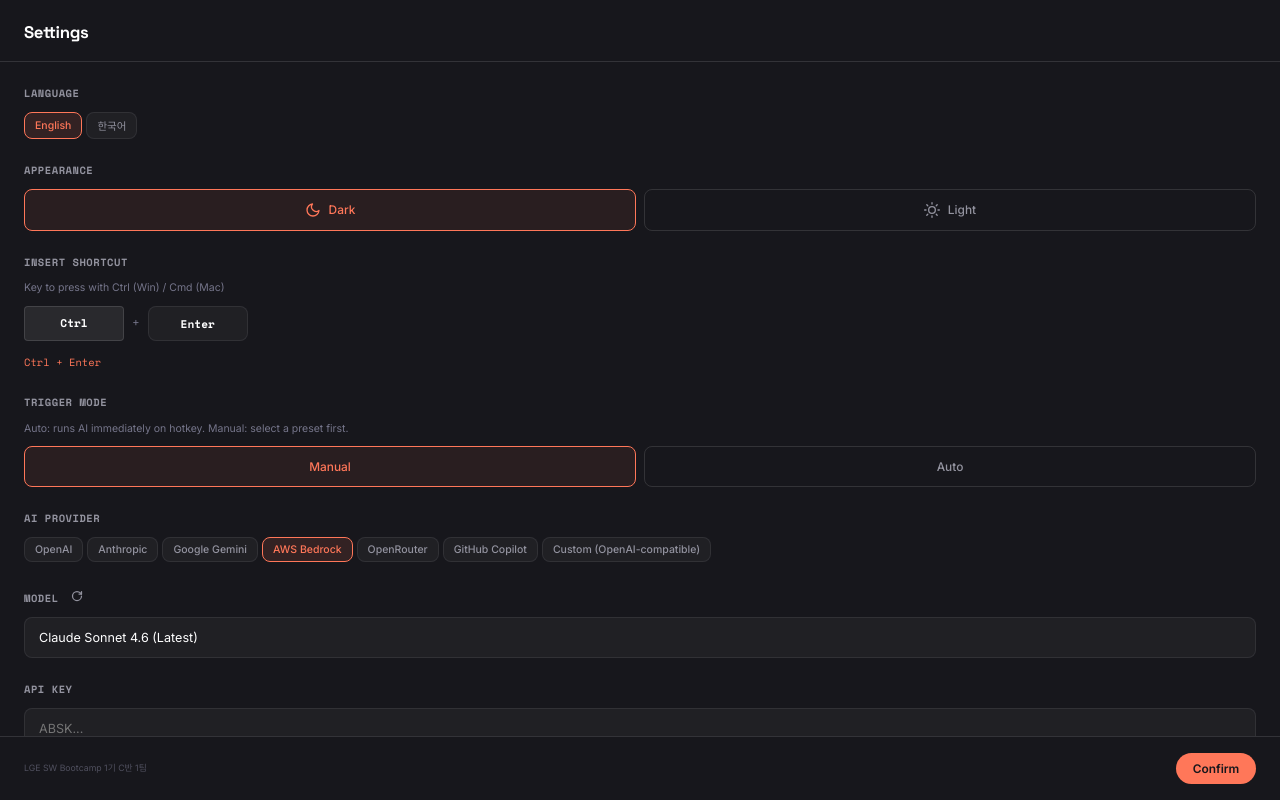
SettingsWindow › language selection › changing language updates UI text
Click the button "한국어": (112, 125) top-left (86, 112), bottom-right (137, 139)
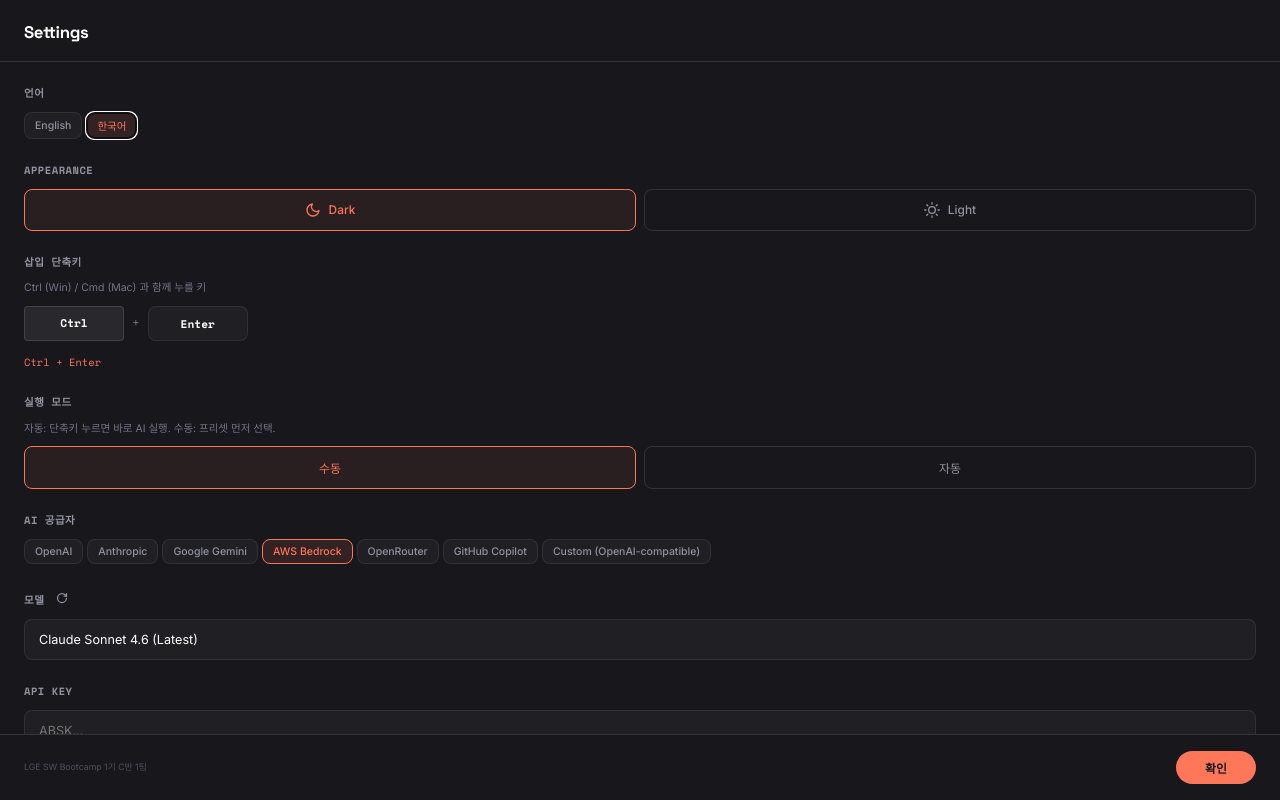
Now the button "확인" is shown, box top-left (1176, 751), bottom-right (1256, 784)
